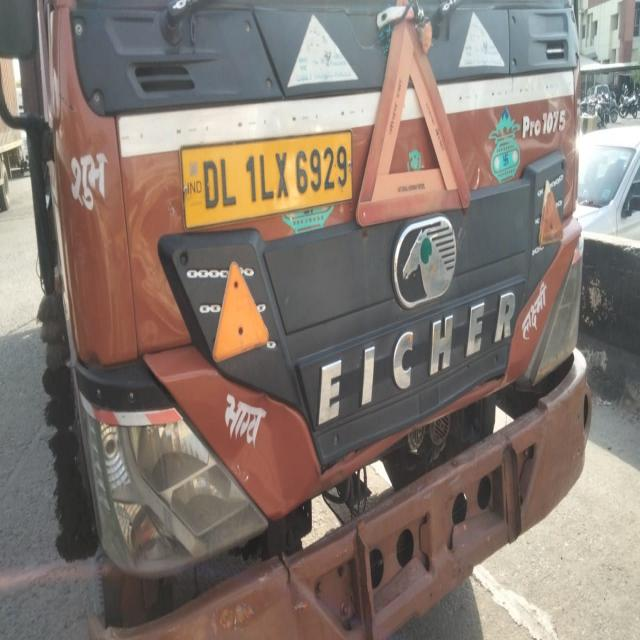License-plate: (192, 134, 355, 206)
